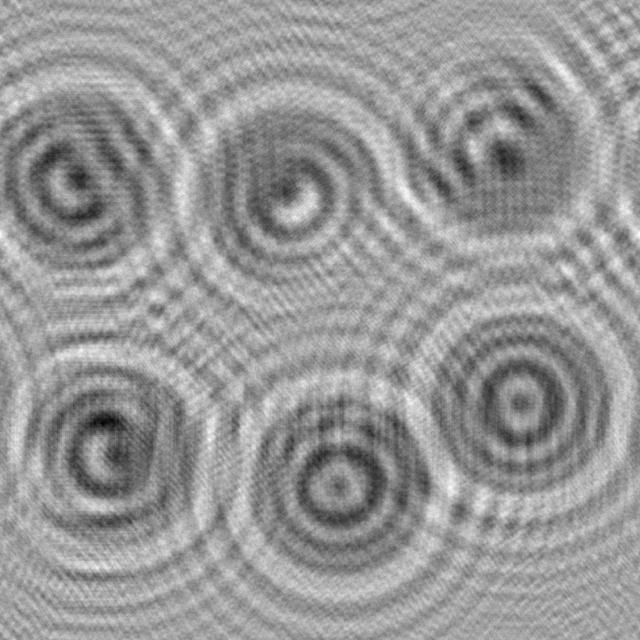C: (151, 54, 416, 322)
D: (0, 44, 217, 317)
G: (0, 305, 251, 613)
O: (384, 269, 640, 536)
Q: (181, 333, 484, 626)
U: (365, 0, 618, 281)
